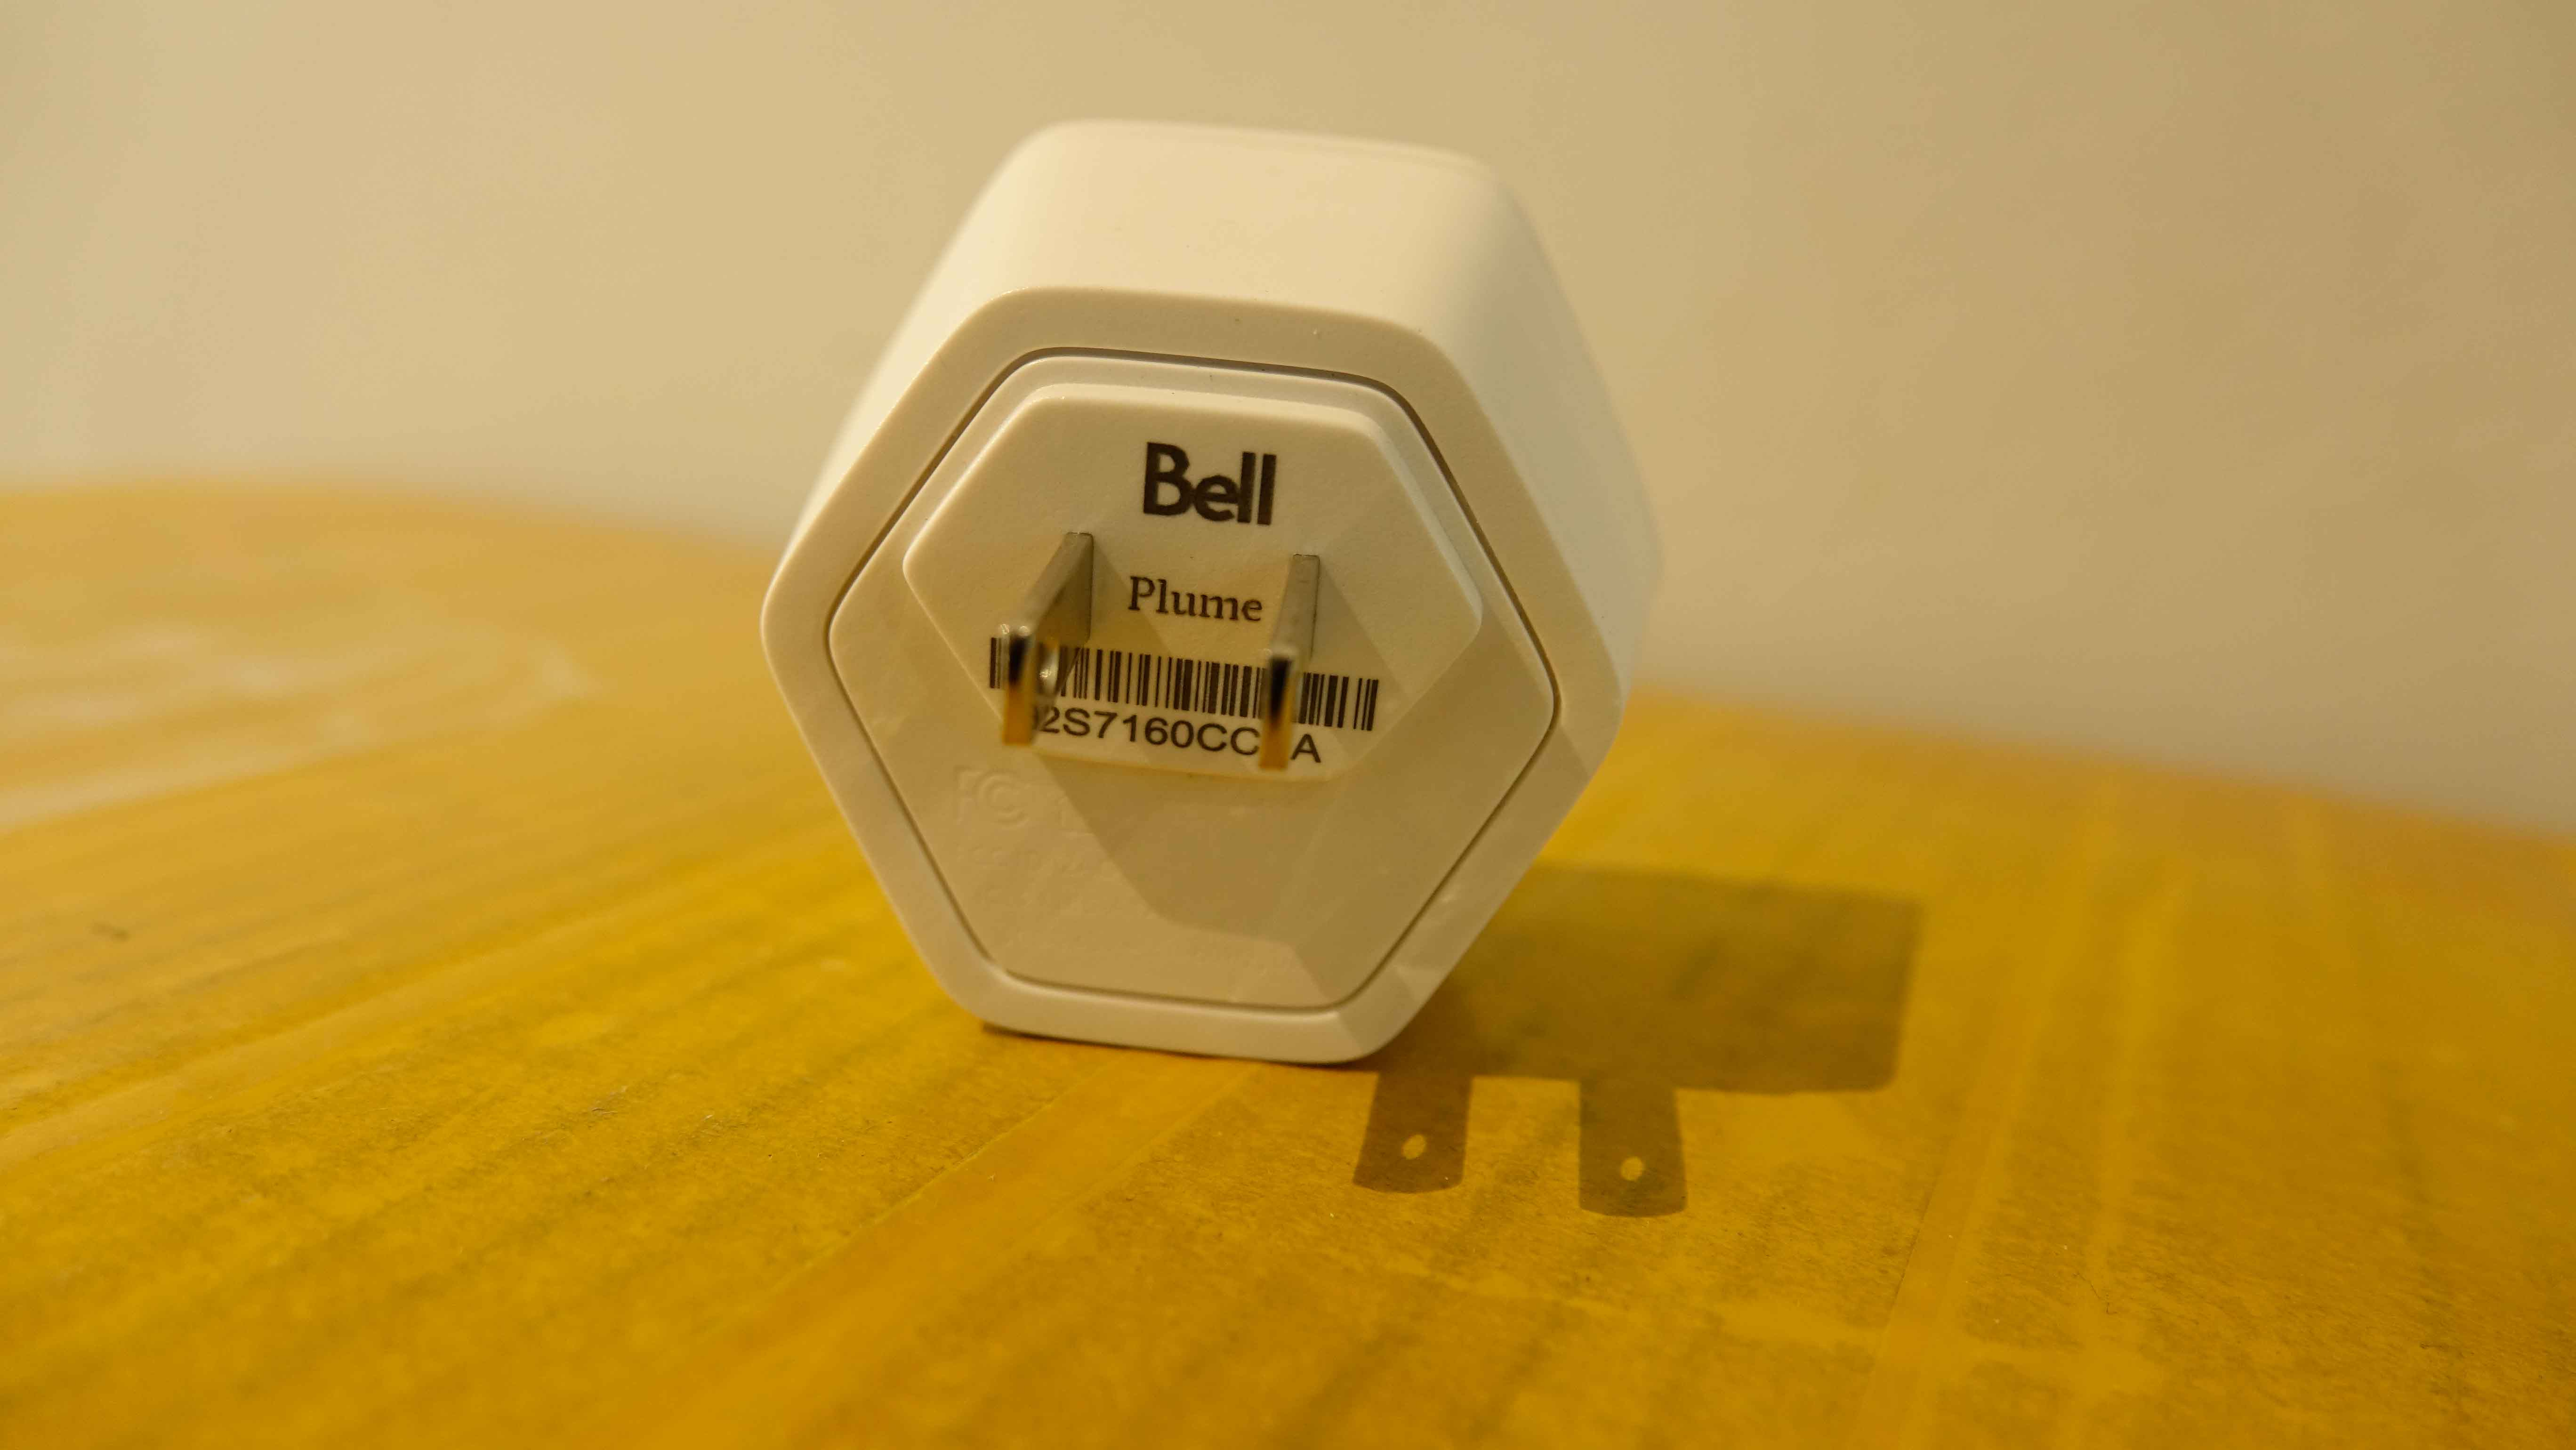pod: (738, 108, 1674, 1079)
